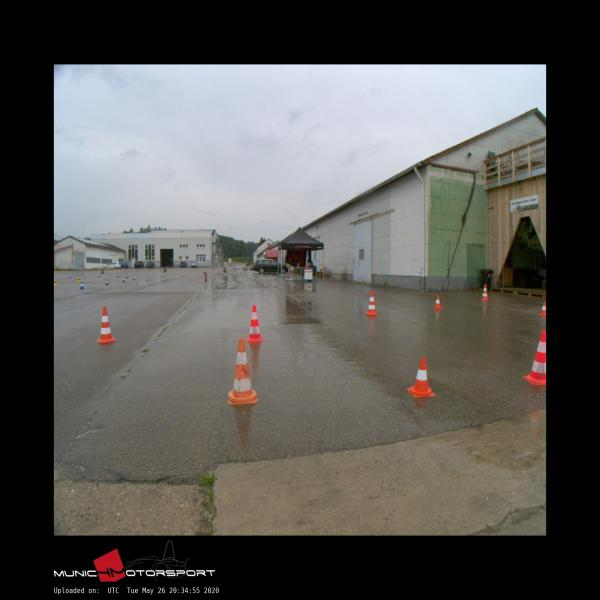blue_cone: (79, 282, 84, 290), (105, 279, 109, 285), (122, 277, 126, 282), (132, 274, 135, 280), (98, 274, 101, 278), (116, 274, 119, 278), (126, 274, 129, 278), (70, 274, 72, 278)
large_orange_cone: (227, 338, 258, 404), (523, 331, 546, 386), (97, 306, 115, 344), (246, 305, 264, 342), (366, 291, 377, 315), (481, 283, 488, 300)
orange_cone: (407, 358, 434, 397), (433, 295, 442, 308), (540, 301, 546, 315)
yellow_cone: (54, 279, 57, 285), (77, 277, 80, 283)
